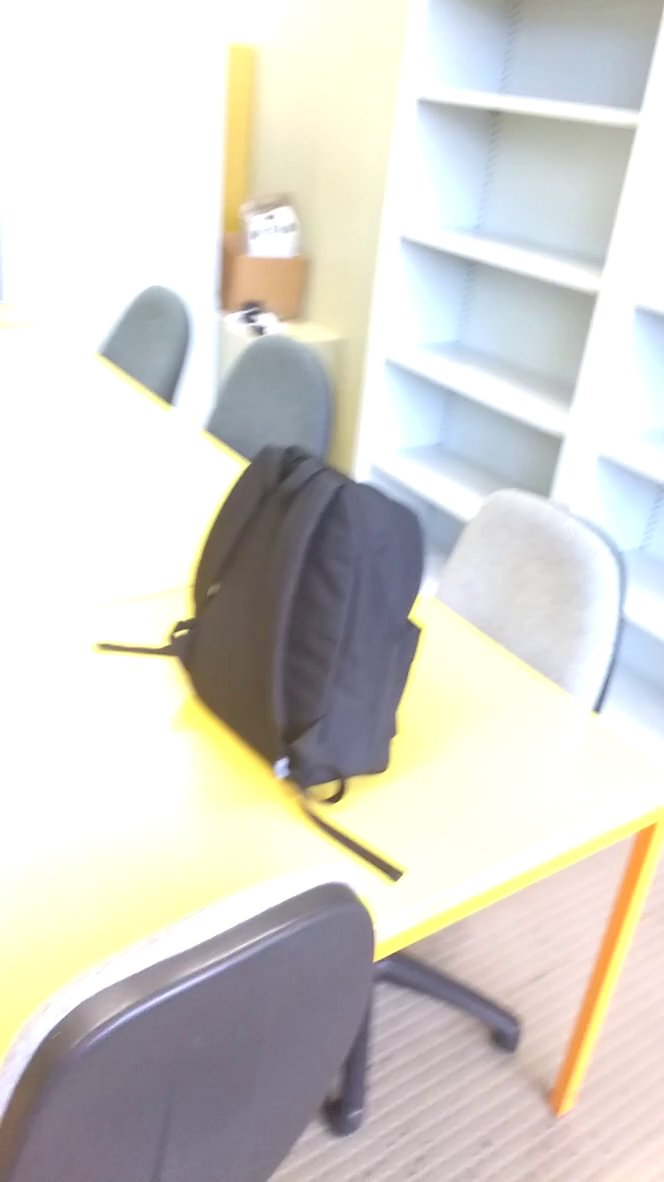bag: (149, 429, 443, 816)
chair: (3, 851, 407, 1182), (414, 480, 647, 753), (194, 317, 349, 506), (88, 276, 202, 420)
